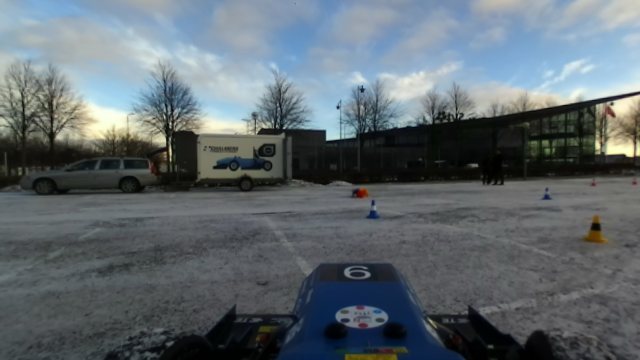blue: (364, 199, 383, 221), (540, 183, 554, 202)
yellow: (583, 212, 609, 246)
